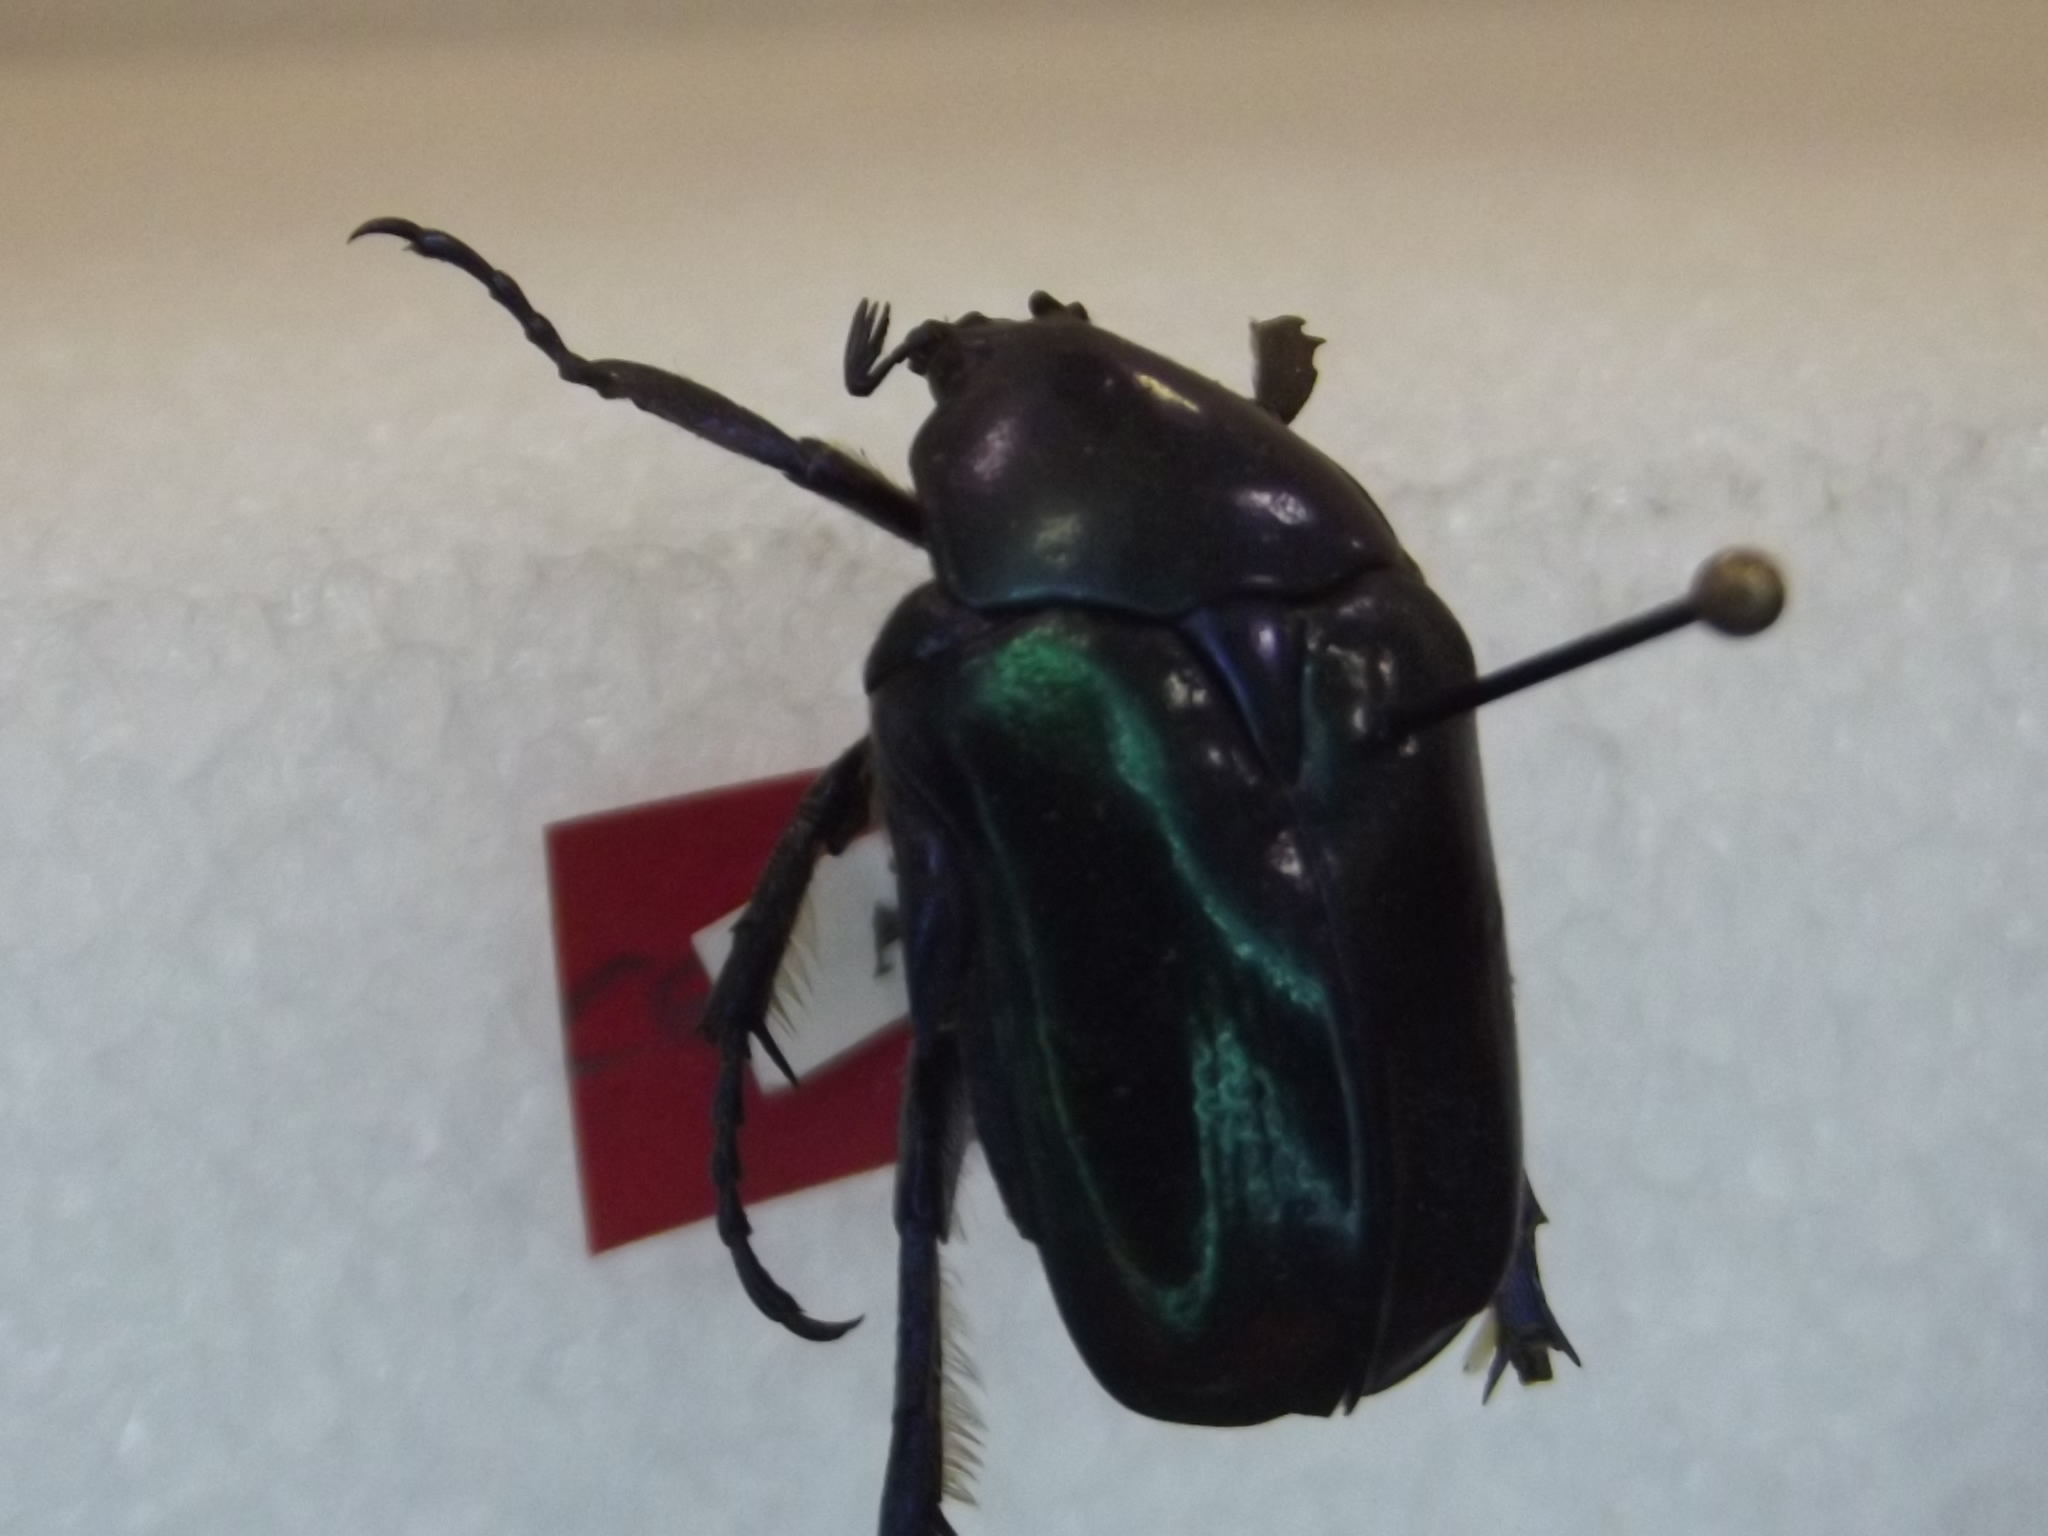Protaetia_besucheti: (331, 189, 1621, 1536)
